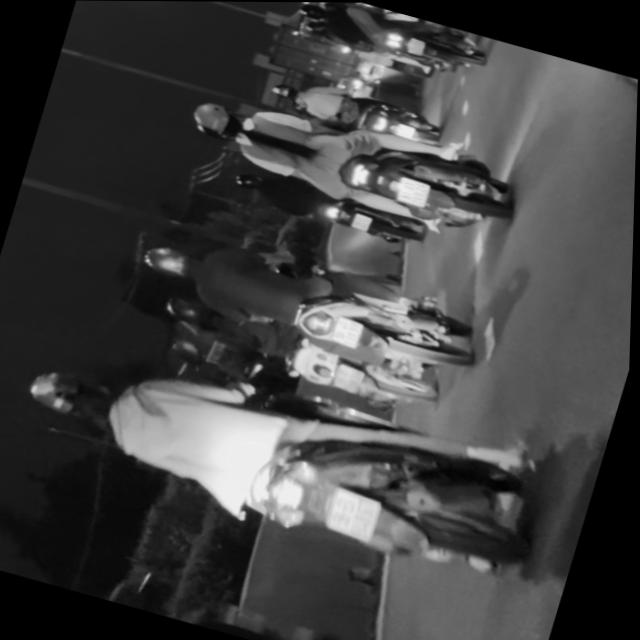helmet: (22, 362, 125, 431), (160, 294, 228, 337), (186, 98, 246, 143), (139, 241, 199, 283)
licenseplate: (0, 314, 567, 604), (0, 513, 544, 640), (129, 213, 491, 386), (172, 75, 523, 247), (145, 286, 451, 418)
nohelmet: (324, 487, 384, 542), (394, 175, 430, 208), (329, 315, 364, 348), (330, 362, 363, 393)
